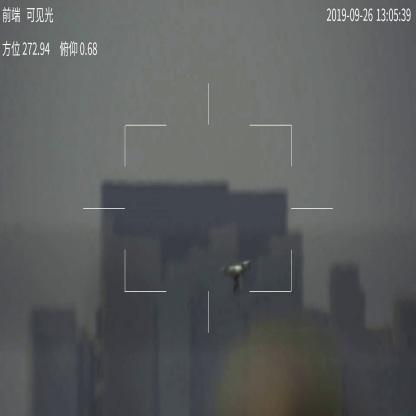uav: (217, 260, 256, 295)
